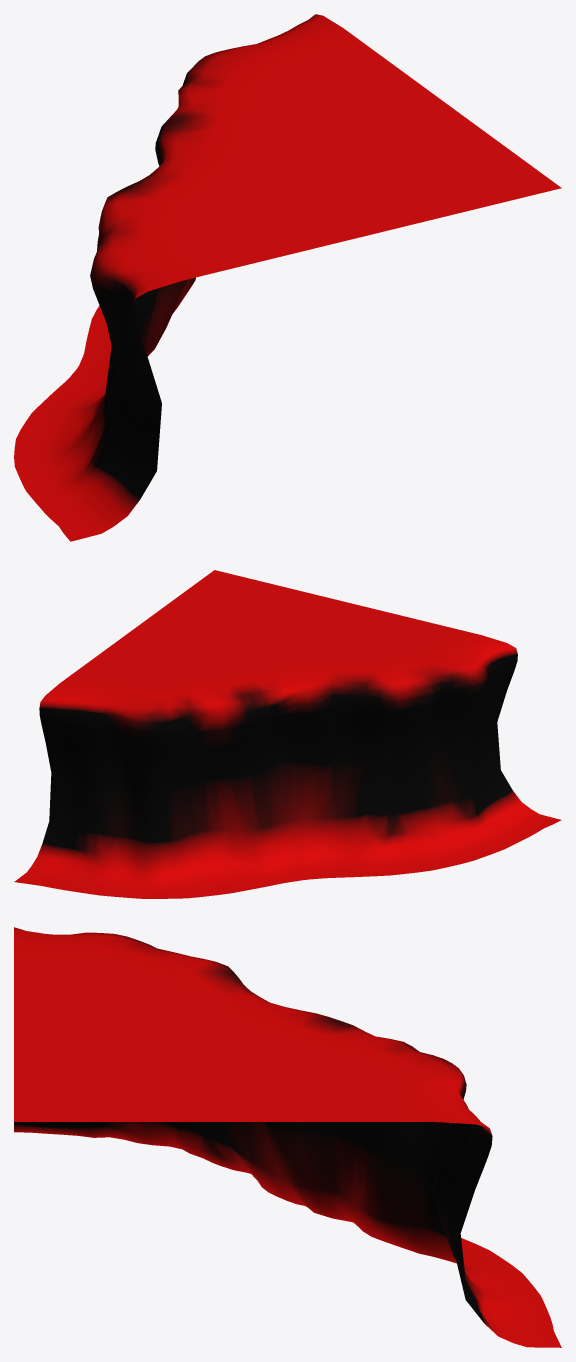
Rendered from GroundCliff03A 1M Foreground.fbx.
The picture shows the model from 3 angles, top to bottom: view 1: azimuth 30°, elevation 25°; view 2: azimuth 150°, elevation 25°; view 3: azimuth 270°, elevation 25°; orthographic projection. The views are drawn at different scales.
Visible parts, largest first — view 1: GroundCliff03A 1M Foreground; view 2: GroundCliff03A 1M Foreground; view 3: GroundCliff03A 1M Foreground.
Boxes of the visible parts, bbox=[...] form: GroundCliff03A 1M Foreground: bbox=[14, 14, 561, 541]; GroundCliff03A 1M Foreground: bbox=[14, 570, 561, 898]; GroundCliff03A 1M Foreground: bbox=[14, 927, 561, 1347].
Bounding box in the file's own units: 2.2 × 1 × 2.2.
